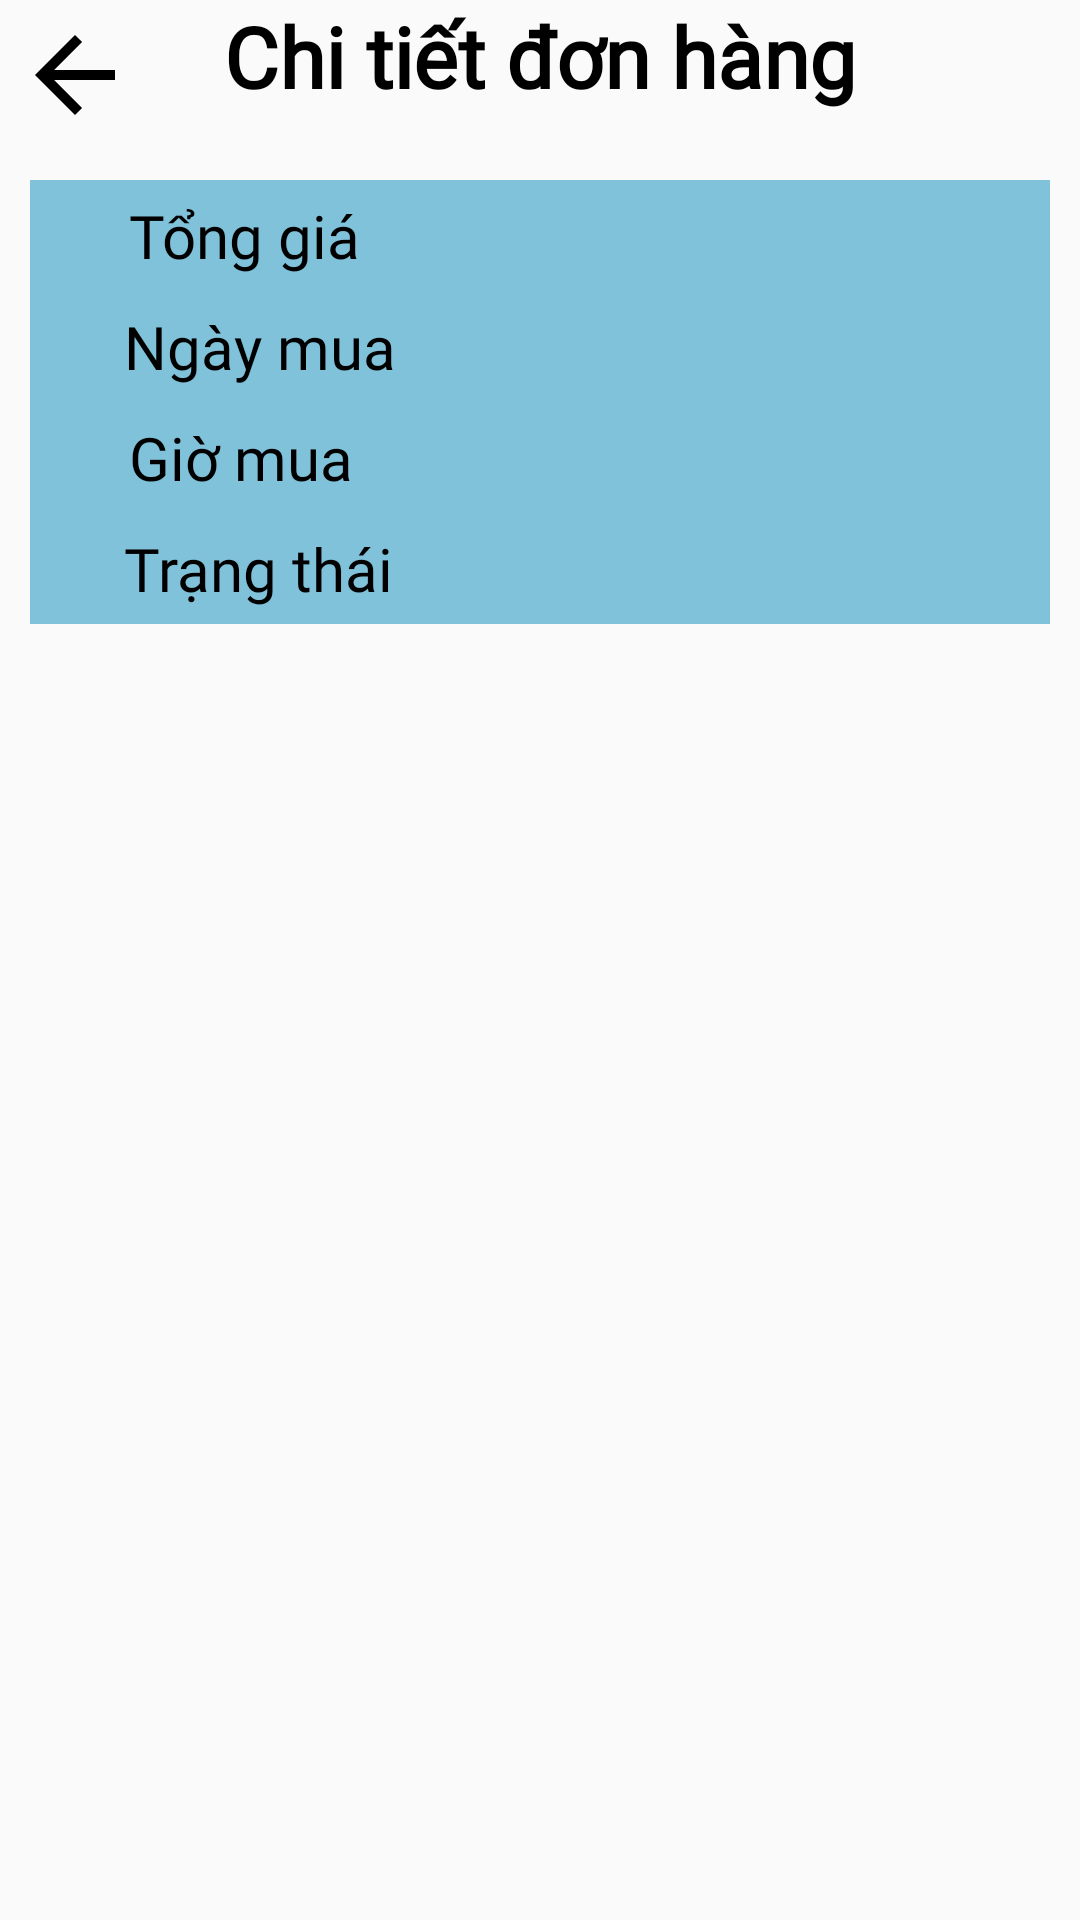

Locate icon controls on the screen. Image size 1080px×1920px, boxes as (x1, y1, x2, y2).
arrow back: (35, 35, 115, 115)
